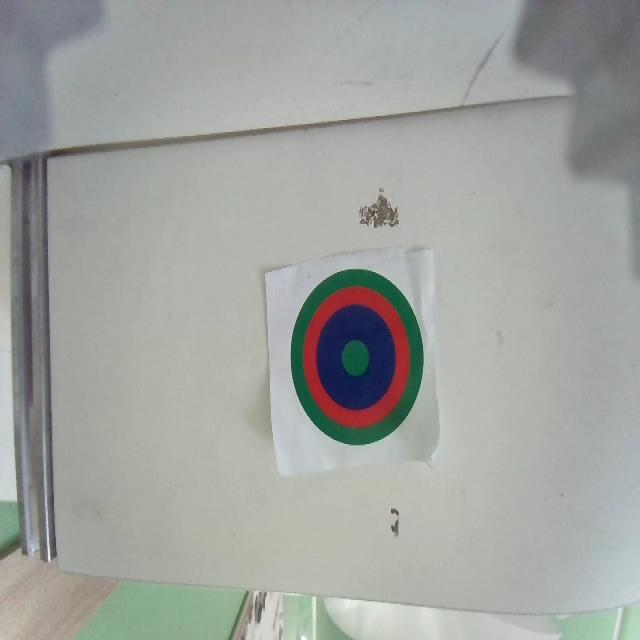cogn: (291, 268, 424, 445)
